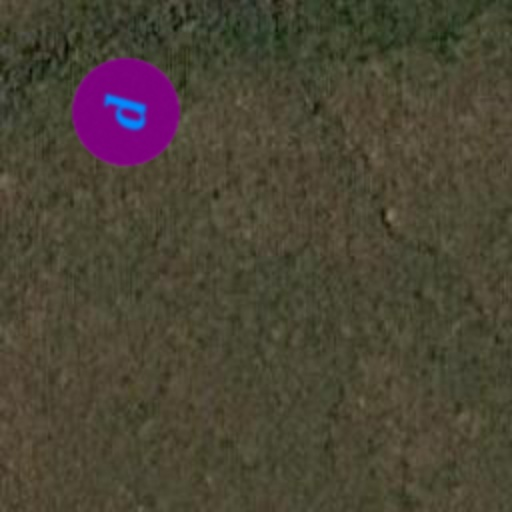circle: (66, 52, 186, 172)
